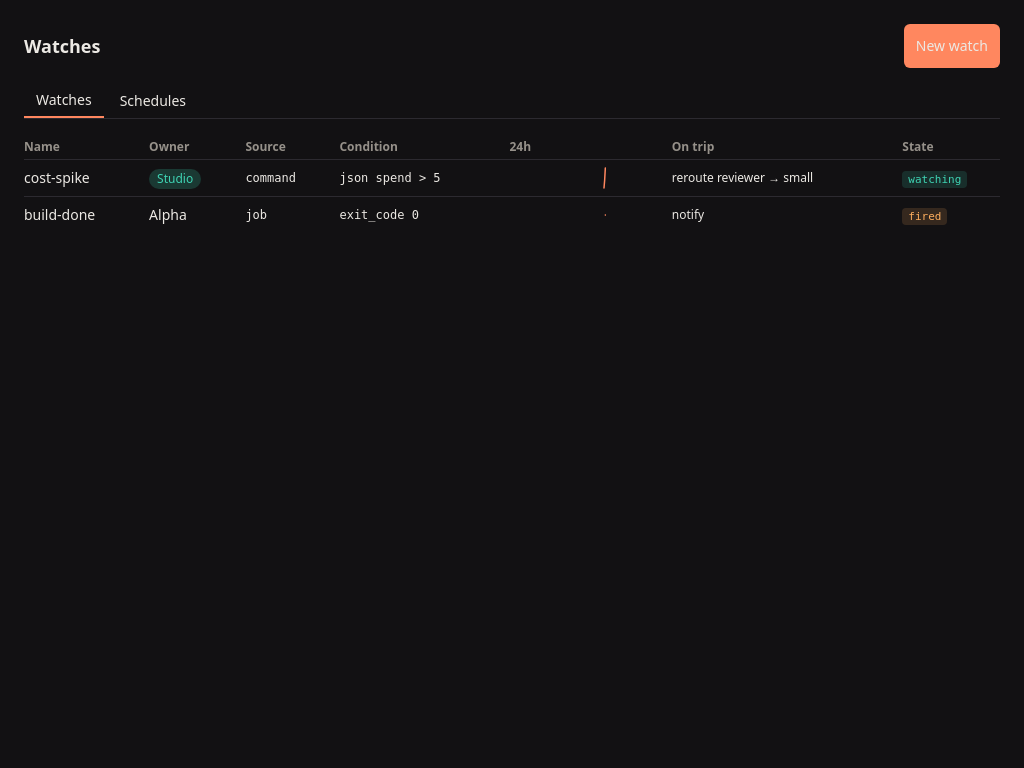
Test case: Watch detail › opens on click with a threshold line, trip marks and the last sample
This screenshot has width=1024, height=768.
Click the row with test id "watch-row" that starts with "cost-spike" at (512, 178), box [24, 160, 1000, 196]
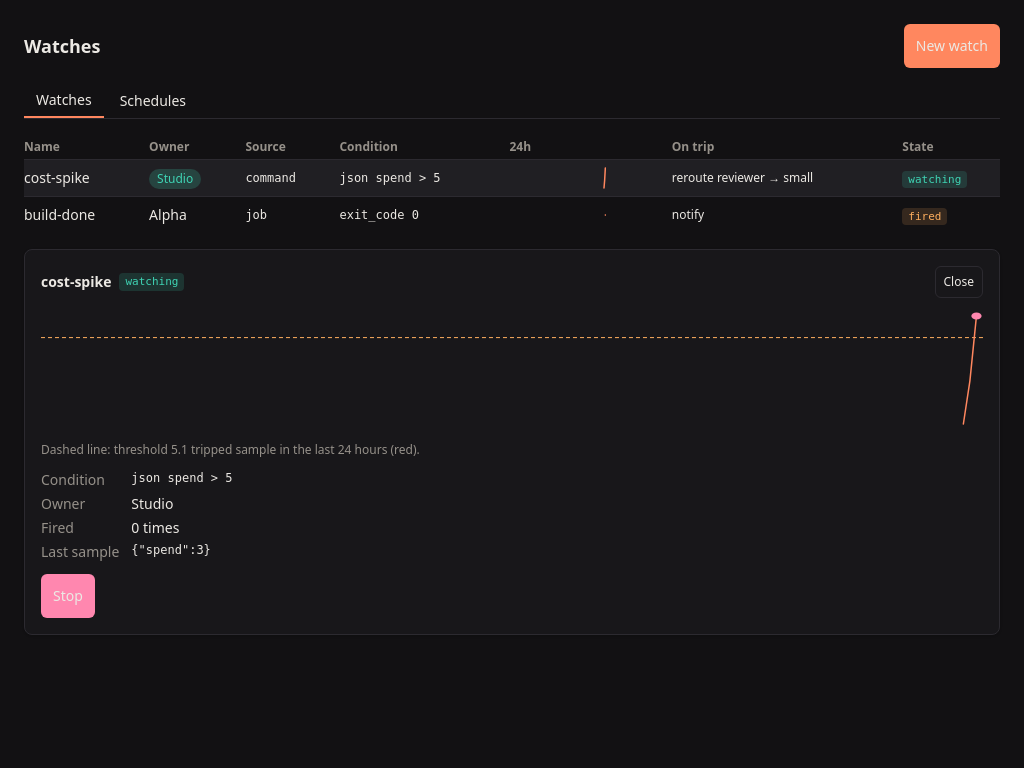
Check: the text with test id "last-sample" reads "{\"spend\":3}", box [131, 543, 211, 557]
